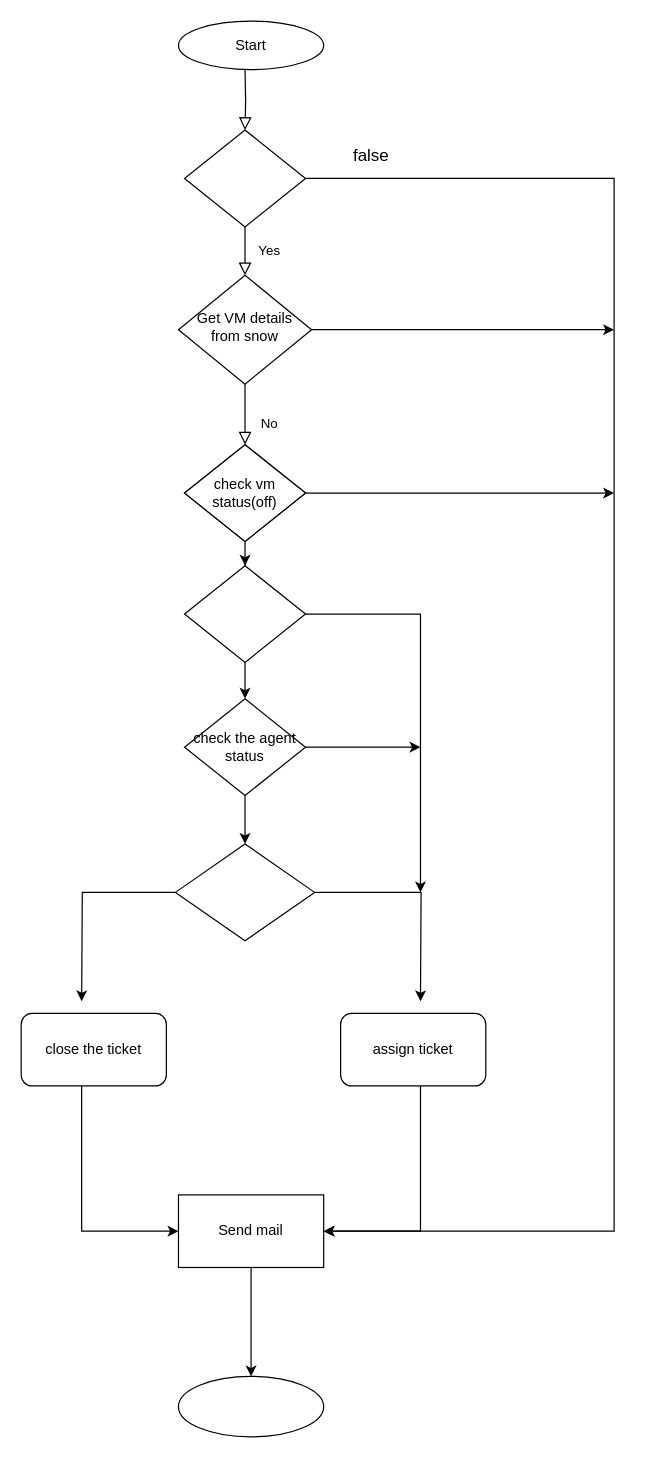
Image size: 645x1458. Some labels were removed from this diagram. The centre of each missing label's shape, as x and y in pixels:
"exit" belongs at point (250, 1406).
"exit from maintanance" belongs at point (244, 892).
"login to vm" belongs at point (244, 178).
"start VM" belongs at point (244, 613).
